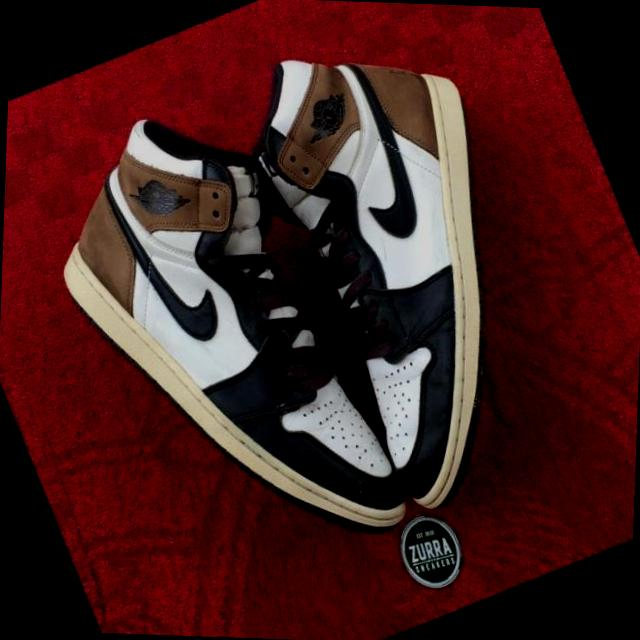nike_original_jordan: (2, 65, 441, 620), (207, 0, 621, 533)
